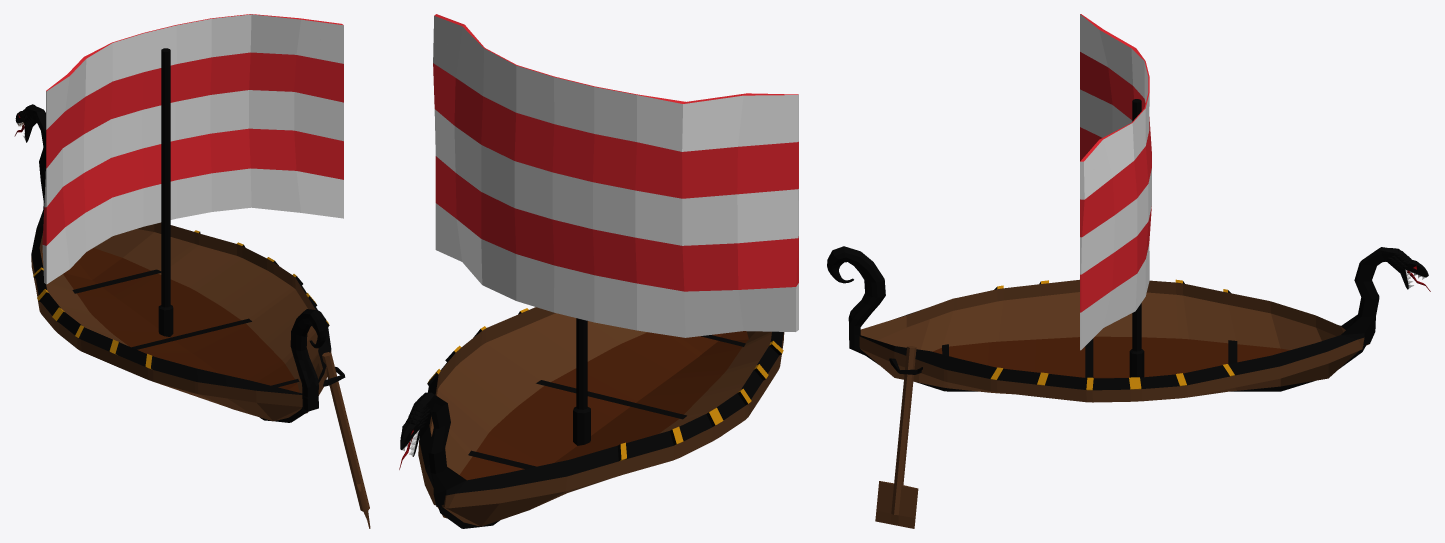
The picture shows the model from 3 angles, left to right: view 1: azimuth 30°, elevation 25°; view 2: azimuth 150°, elevation 25°; view 3: azimuth 270°, elevation 25°; orthographic projection. The views are drawn at different scales.
Parts seen in each view (by area): view 1: ship; view 2: ship; view 3: ship.
Boxes of the visible parts, x1,y1,x2,y2 form: ship: (14, 14, 370, 528); ship: (399, 14, 798, 528); ship: (827, 14, 1430, 528).
Size of the model in its own units: 17.06 by 22.65 by 30.63.
